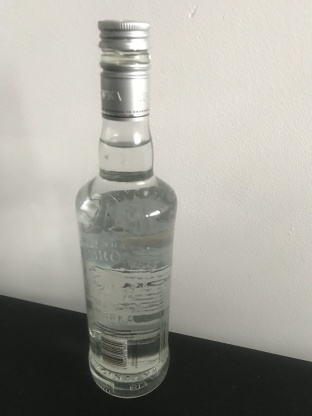nakretka: (96, 17, 152, 122)
